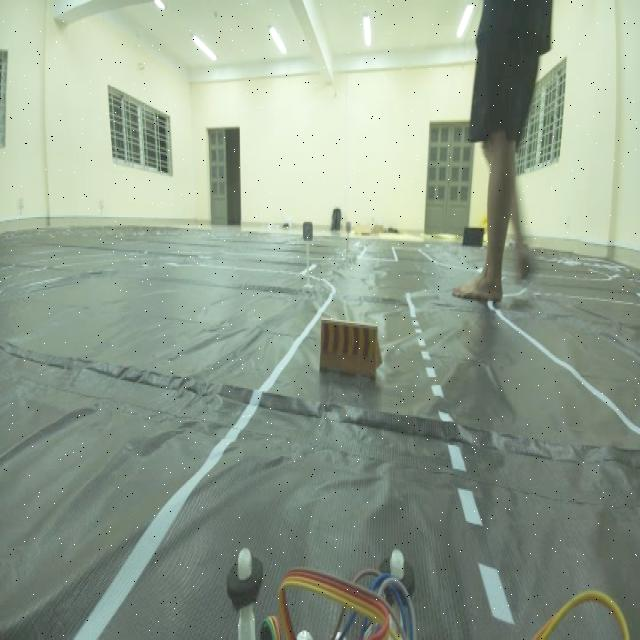roadblock: (308, 296, 393, 406)
